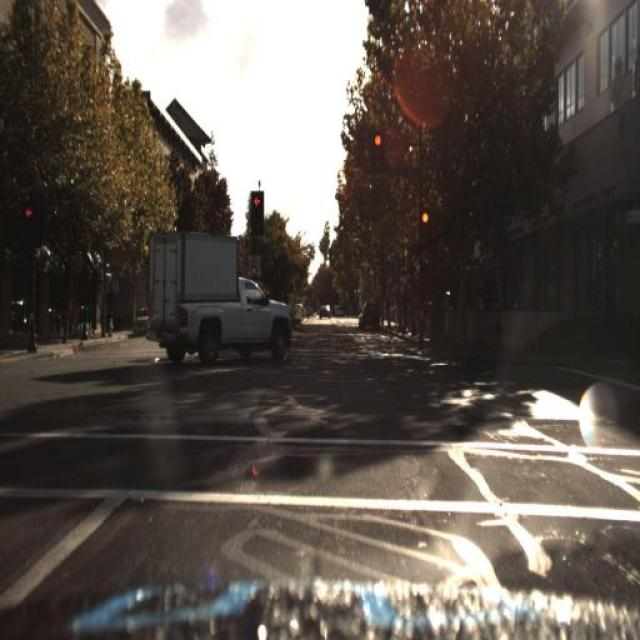car: (146, 225, 300, 360), (128, 305, 154, 335), (357, 296, 385, 323), (358, 299, 377, 327)
trafficLight-Green: (372, 132, 382, 169)
trafficLight-RedLeft: (418, 208, 430, 243)
trafficLight-Yellow: (251, 188, 264, 231), (21, 204, 33, 248)
